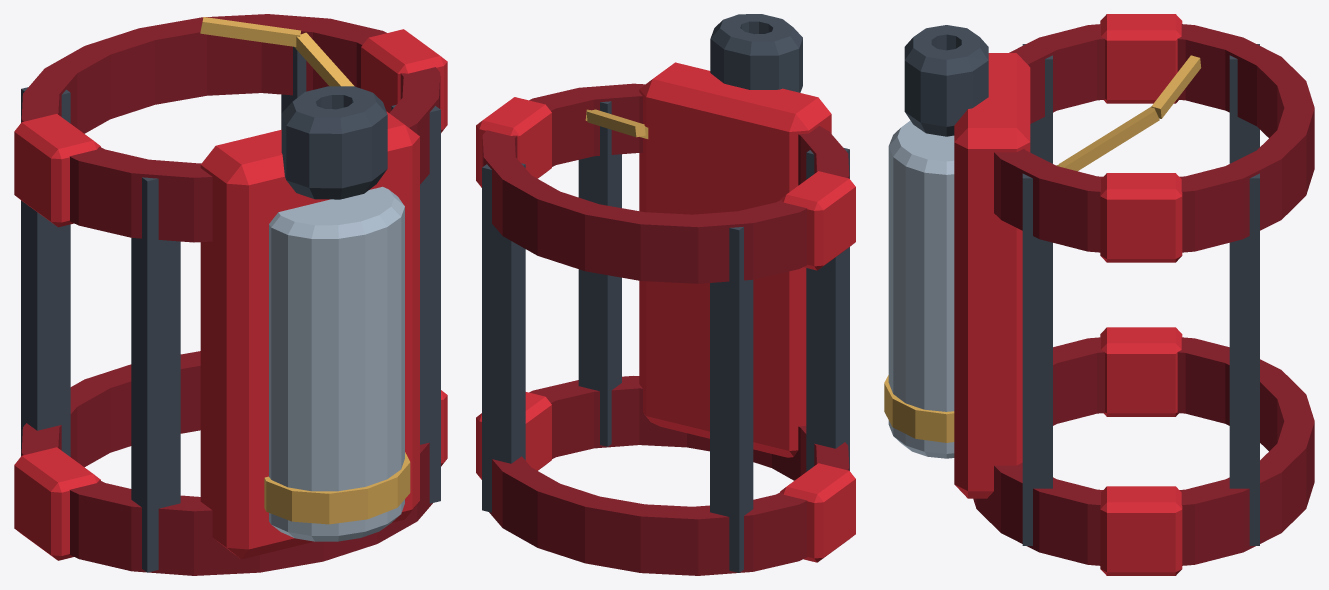
The model's file is web_shooter_bracer.fbx.
3 views of the same model, side by side, from view 1: azimuth 30°, elevation 25°; view 2: azimuth 150°, elevation 25°; view 3: azimuth 270°, elevation 25° (orthographic). The views are drawn at different scales.
Visible parts, largest first — view 1: web_shooter_bracer; view 2: web_shooter_bracer; view 3: web_shooter_bracer.
Boxes of the visible parts, x1,y1,x2,y2 form: web_shooter_bracer: (14, 14, 447, 575); web_shooter_bracer: (476, 14, 855, 575); web_shooter_bracer: (884, 14, 1314, 575).
Bounding box in the file's own units: 140 × 160 × 140.
